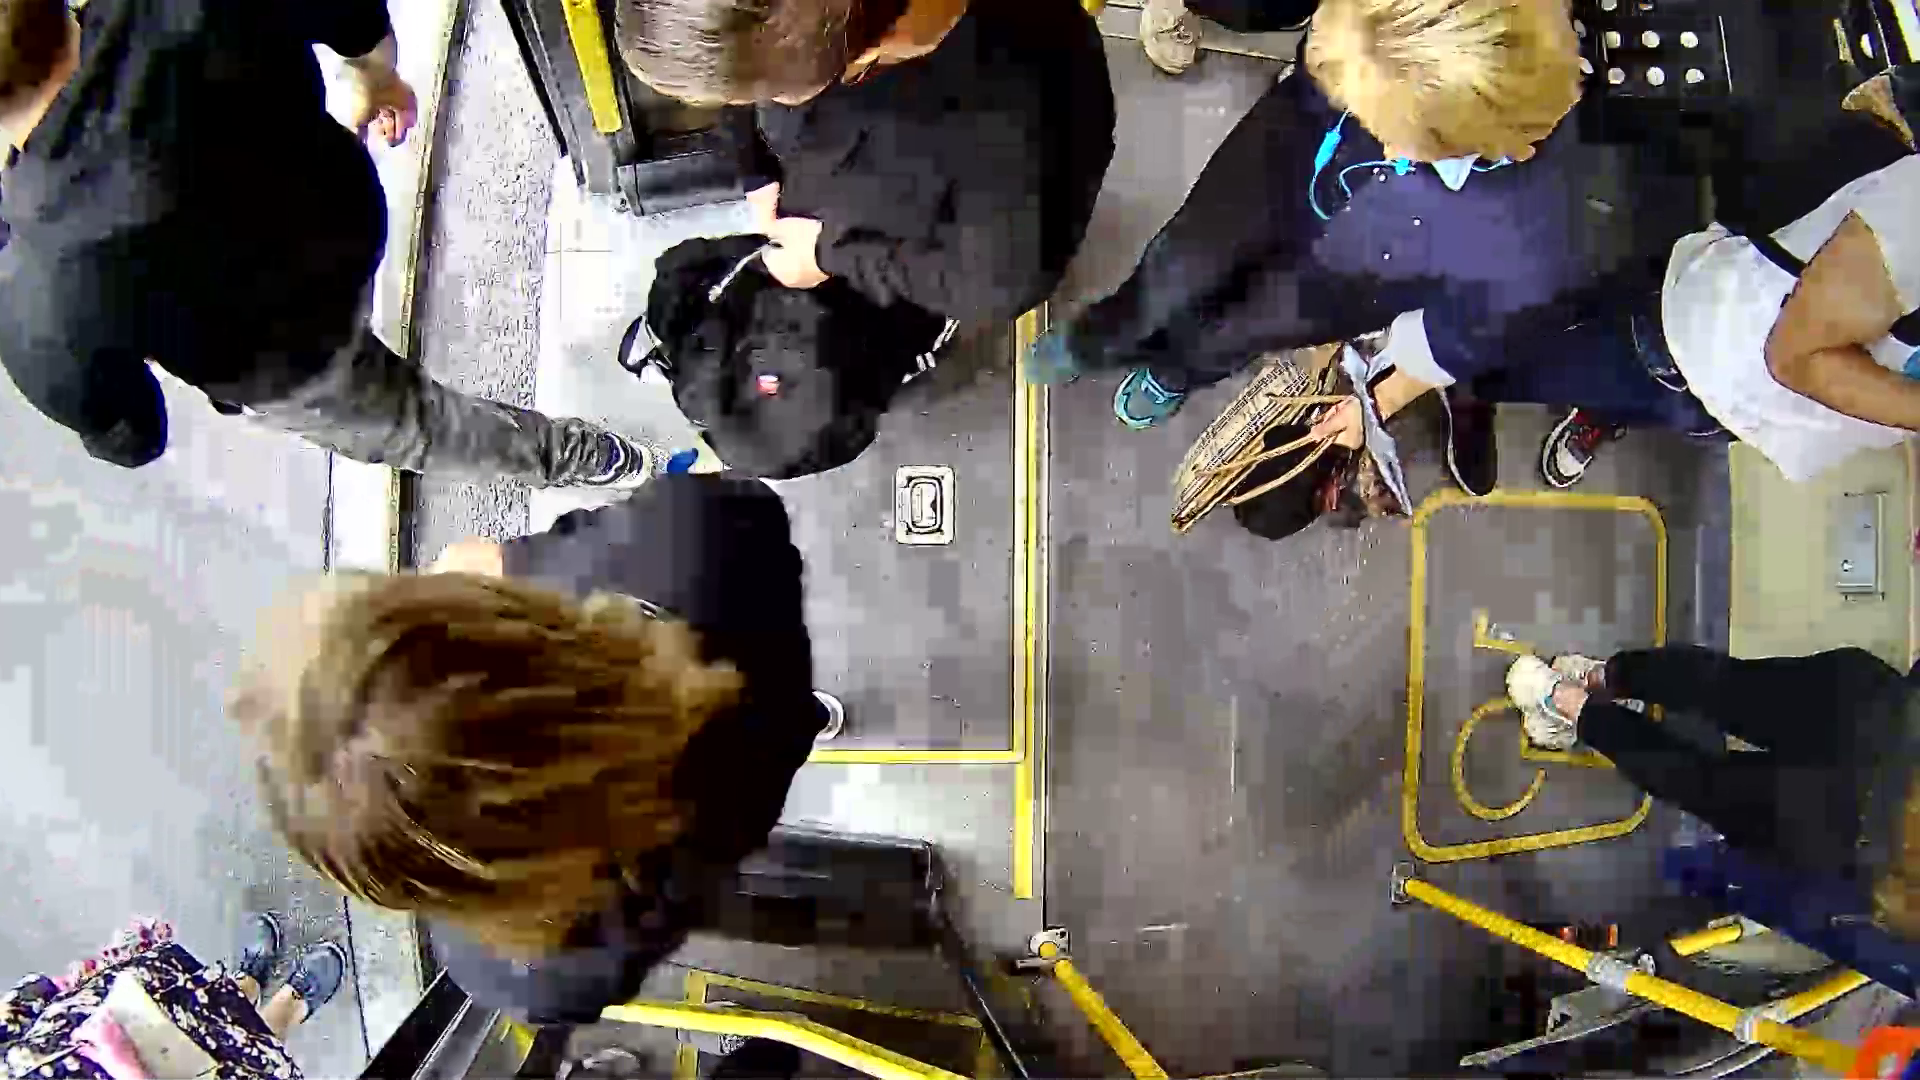person: (252, 483, 951, 946), (555, 10, 1121, 438), (1174, 5, 1633, 432)
